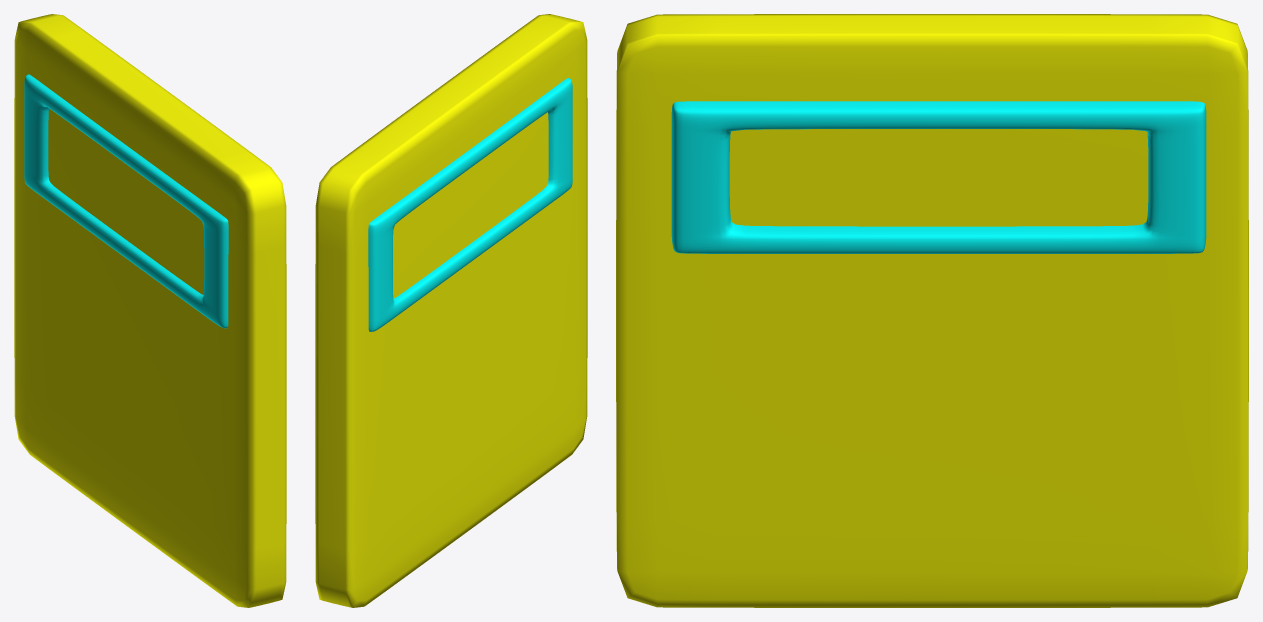
3 views of the same model, side by side, from view 1: azimuth 30°, elevation 25°; view 2: azimuth 150°, elevation 25°; view 3: azimuth 270°, elevation 25° (orthographic). The views are drawn at different scales.
Visible parts, largest first — view 1: polySurface917; view 2: polySurface917; view 3: polySurface917.
Boxes of the visible parts, x1,y1,x2,y2 form: polySurface917: (14,14,286,607); polySurface917: (315,14,587,607); polySurface917: (616,14,1248,607).
Bounding box in the file's own units: 0.1498 × 0.9994 × 0.9994.
